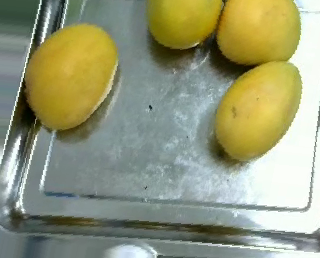Mango: (26, 23, 119, 130), (213, 61, 303, 160), (216, 0, 299, 66), (148, 0, 224, 49)
